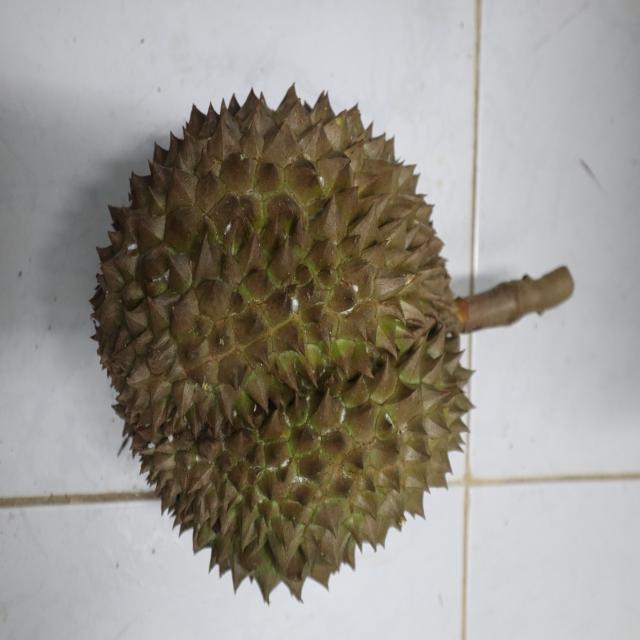mature: (84, 86, 480, 608)
